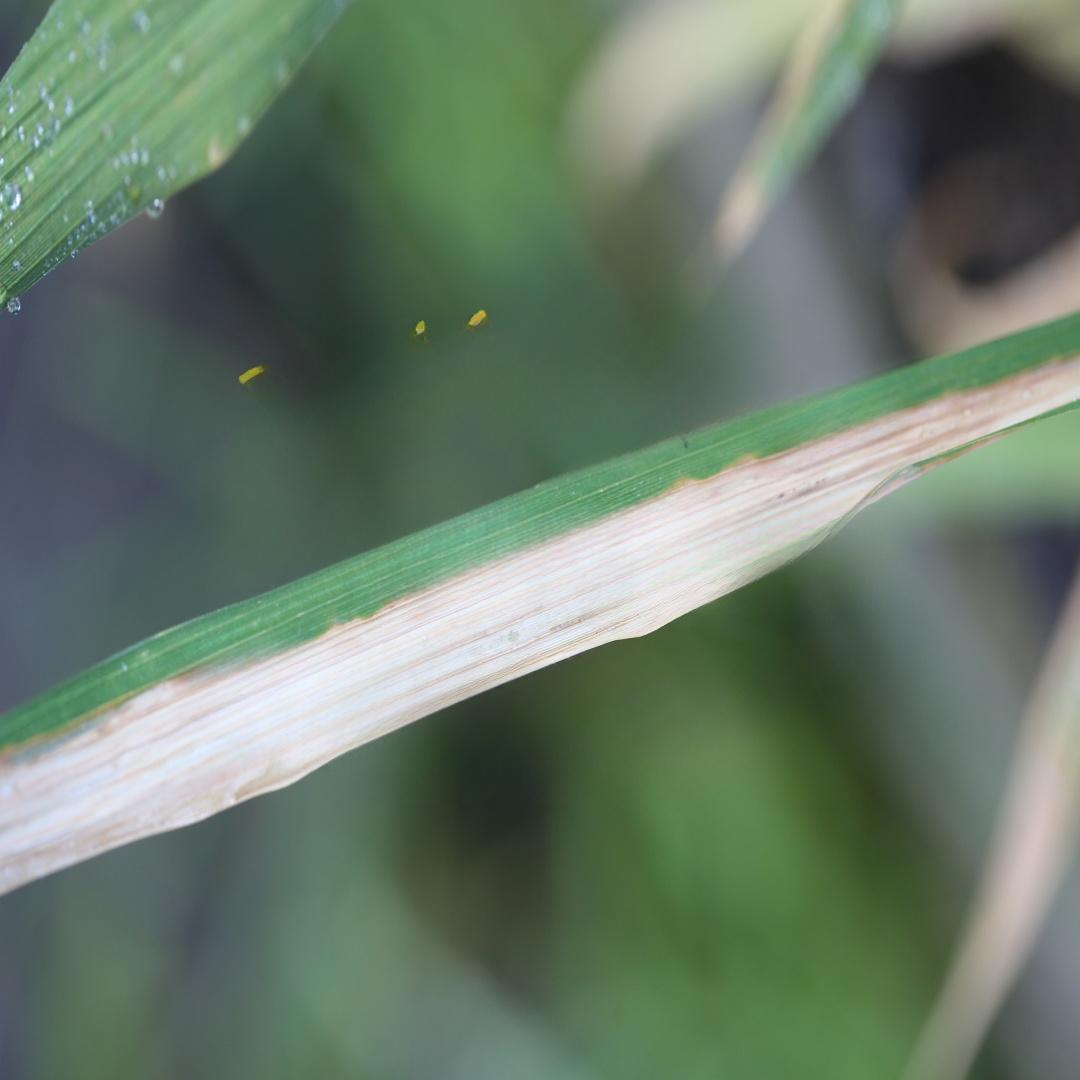BLB: (0, 349, 1079, 892)
LEAF: (0, 313, 1079, 894)
